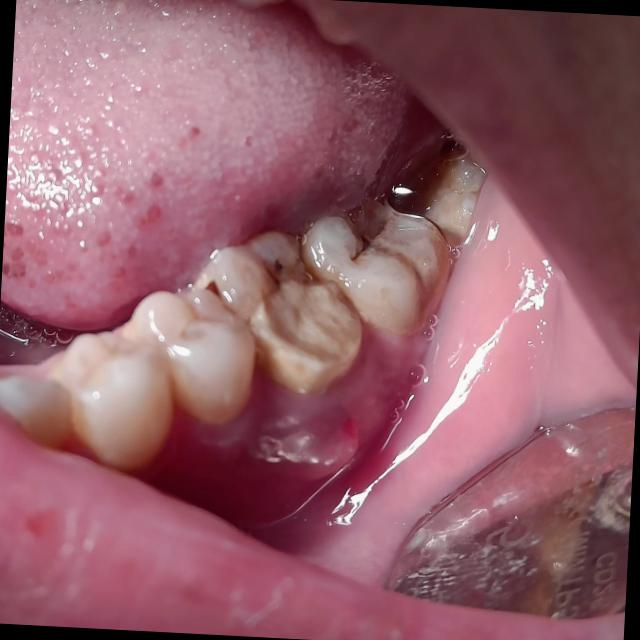No Cancer: (73, 90, 475, 501)
